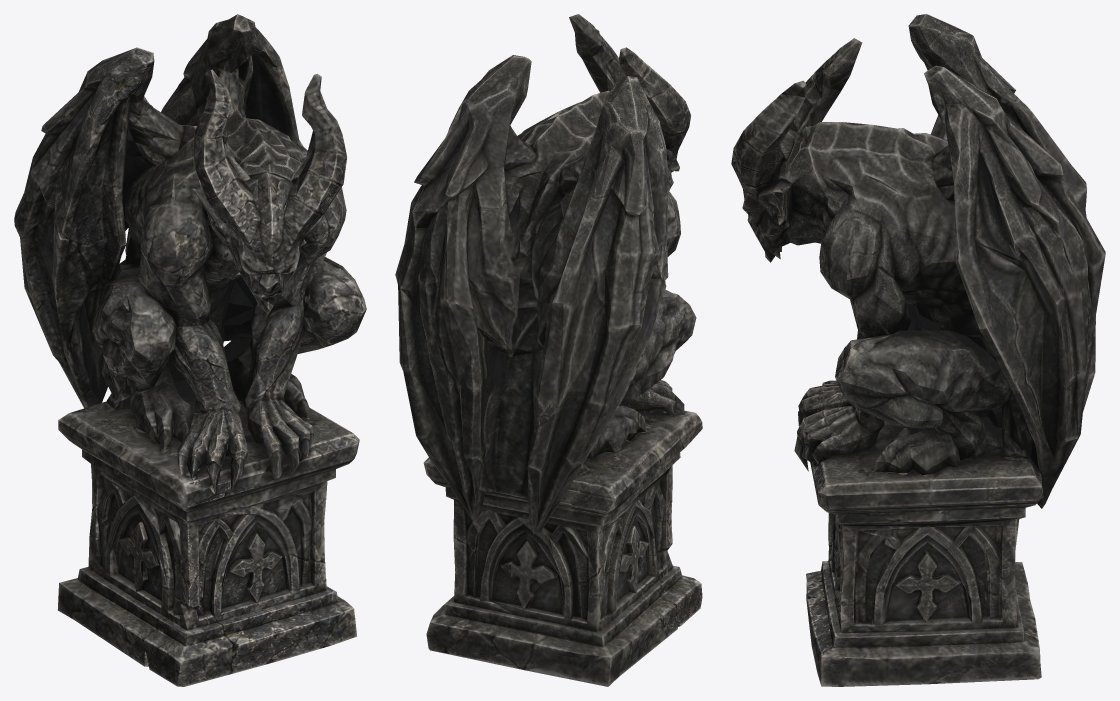
File: gargoyle.glb
3 renders of one model, left to right at view 1: azimuth 30°, elevation 25°; view 2: azimuth 150°, elevation 25°; view 3: azimuth 270°, elevation 25°, orthographic. The views are drawn at different scales.
Parts seen in each view (by area): view 1: output_unwrapped; view 2: output_unwrapped; view 3: output_unwrapped.
Boxes of the visible parts, x1,y1,x2,y2 form: output_unwrapped: [14, 14, 366, 686]; output_unwrapped: [395, 14, 702, 686]; output_unwrapped: [731, 14, 1105, 686].
Size of the model in its own units: 0.9014 by 1.9 by 1.09.
1 material, 1 textured.
